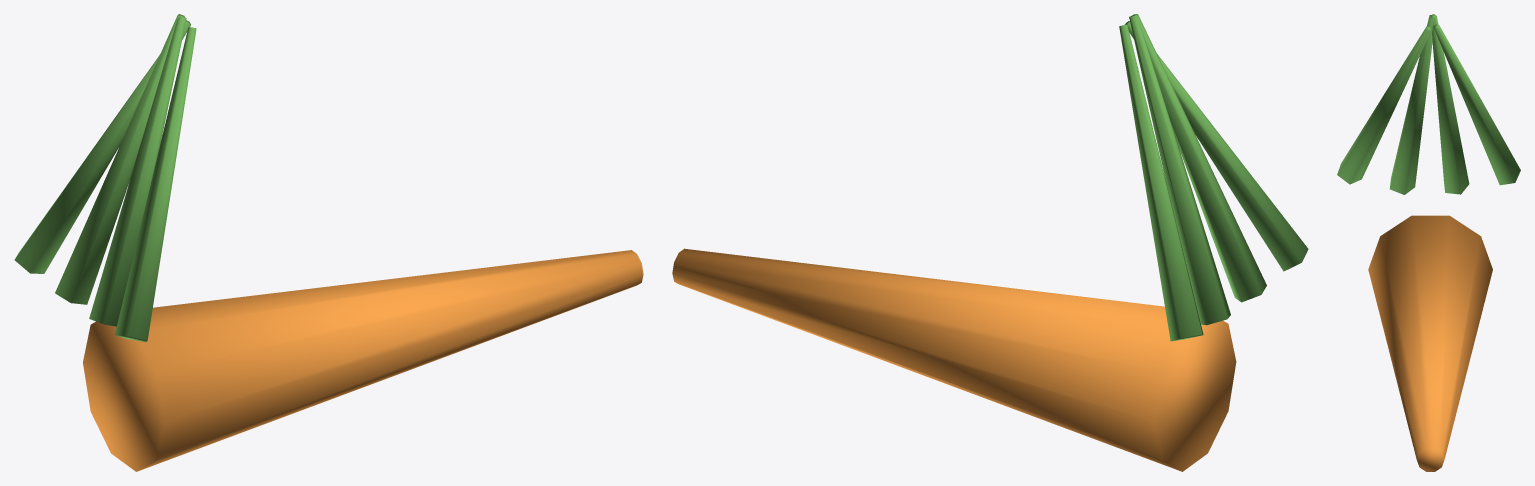
Rendered from Food_wortel.fbx.
The picture shows the model from 3 angles, left to right: view 1: azimuth 30°, elevation 25°; view 2: azimuth 150°, elevation 25°; view 3: azimuth 270°, elevation 25°; orthographic projection. The views are drawn at different scales.
Visible parts, largest first — view 1: Food_wortel; view 2: Food_wortel; view 3: Food_wortel.
Part boxes in pixels (box(x1,y1,x2,y2)): Food_wortel: box(14, 14, 643, 471); Food_wortel: box(672, 14, 1308, 471); Food_wortel: box(1337, 14, 1520, 471).
Size of the model in its own units: 0.1448 by 0.1051 by 0.0531.
